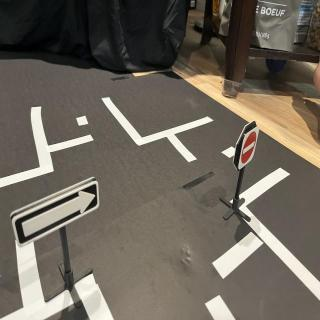sign_noentry: (238, 126, 262, 173)
sign_oneway_right: (11, 179, 102, 251)
